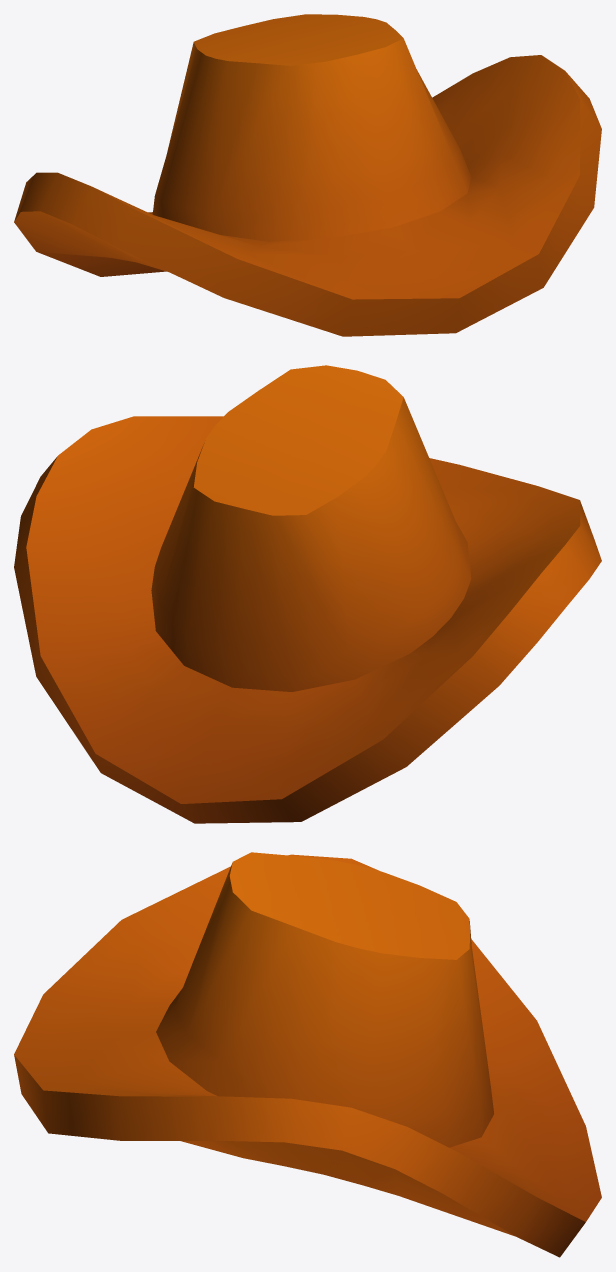
File: Capsule_Head_Props_Hat_Cowboy_01.fbx
The picture shows the model from 3 angles, top to bottom: view 1: azimuth 30°, elevation 25°; view 2: azimuth 150°, elevation 25°; view 3: azimuth 270°, elevation 25°; orthographic projection. The views are drawn at different scales.
Parts seen in each view (by area): view 1: Capsule_Head_Props_Hat_Cowboy_01; view 2: Capsule_Head_Props_Hat_Cowboy_01; view 3: Capsule_Head_Props_Hat_Cowboy_01.
Part boxes in pixels (x1=…): Capsule_Head_Props_Hat_Cowboy_01: x1=14, y1=14, x2=601, y2=336; Capsule_Head_Props_Hat_Cowboy_01: x1=14, y1=365, x2=601, y2=823; Capsule_Head_Props_Hat_Cowboy_01: x1=14, y1=852, x2=601, y2=1257.
Size of the model in its own units: 185 by 112 by 169.
